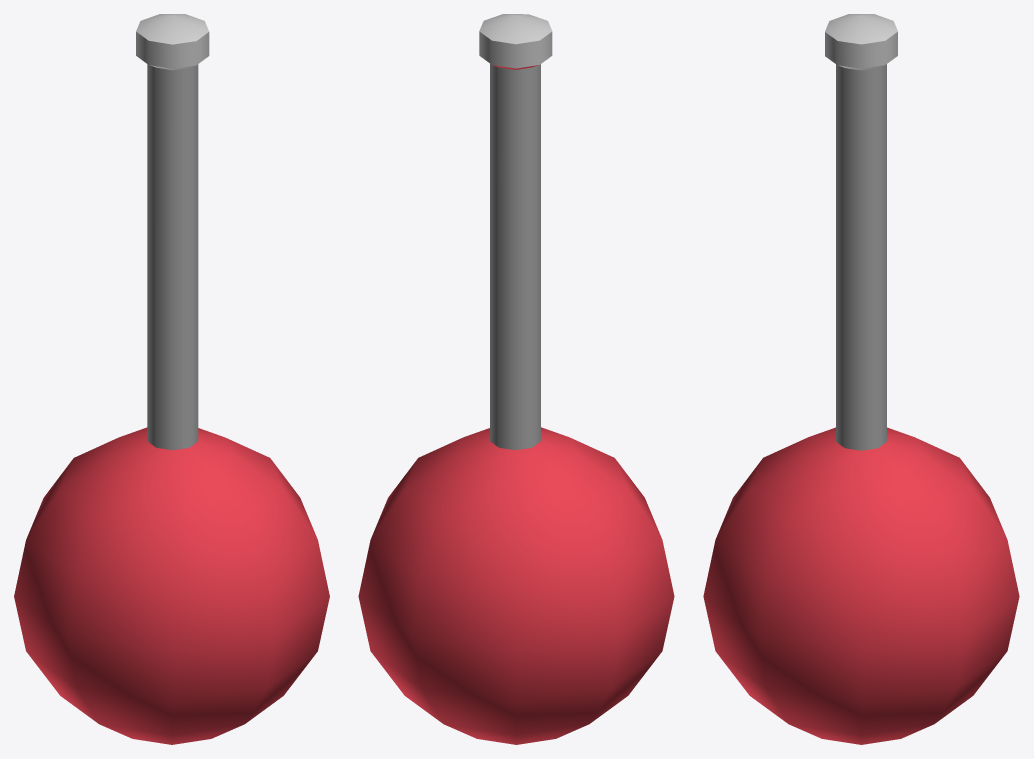
File: BuoyEnd.fbx
The picture shows the model from 3 angles, left to right: view 1: azimuth 30°, elevation 25°; view 2: azimuth 150°, elevation 25°; view 3: azimuth 270°, elevation 25°; orthographic projection.
Visible parts, largest first — view 1: polySurface2; view 2: polySurface2; view 3: polySurface2.
Part boxes in pixels (x1=…): polySurface2: x1=14, y1=14, x2=329, y2=744; polySurface2: x1=358, y1=14, x2=674, y2=744; polySurface2: x1=703, y1=14, x2=1019, y2=744.
Bounding box in the file's own units: 194 × 491 × 197.
